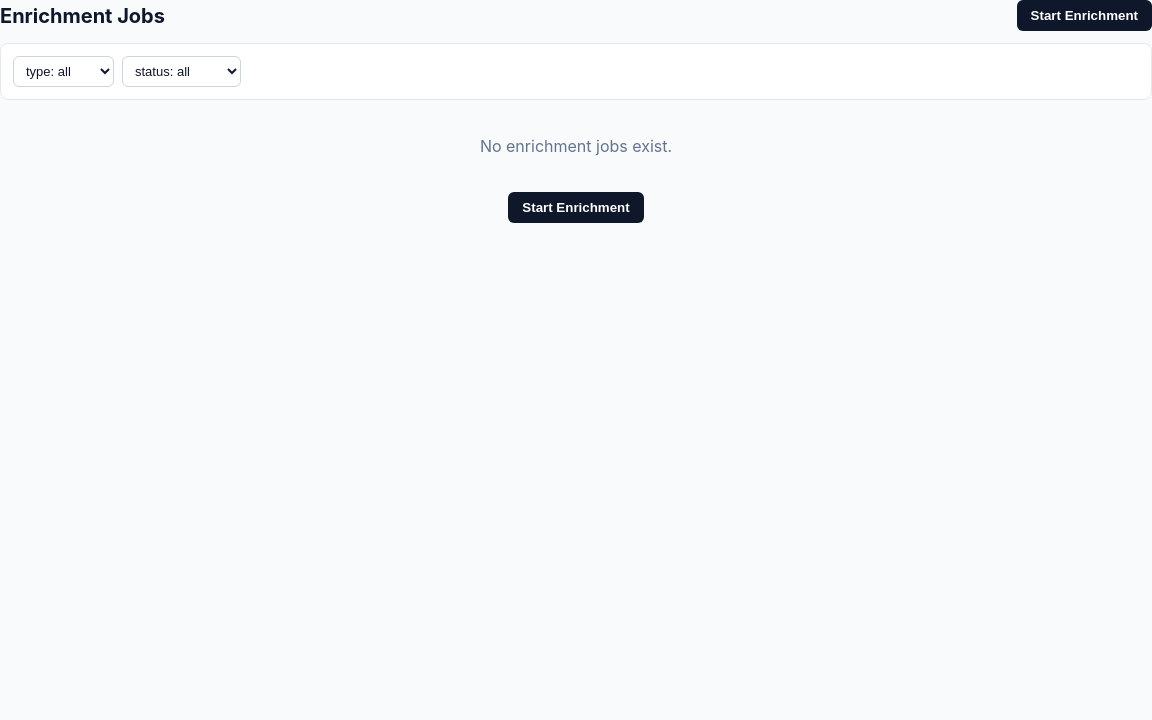
Test: Enrichment Start › limit 0 inválido
Step 1. Click the 1st button "Start Enrichment" → {"x": 1084, "y": 16}, box [1017,0,1151,31]
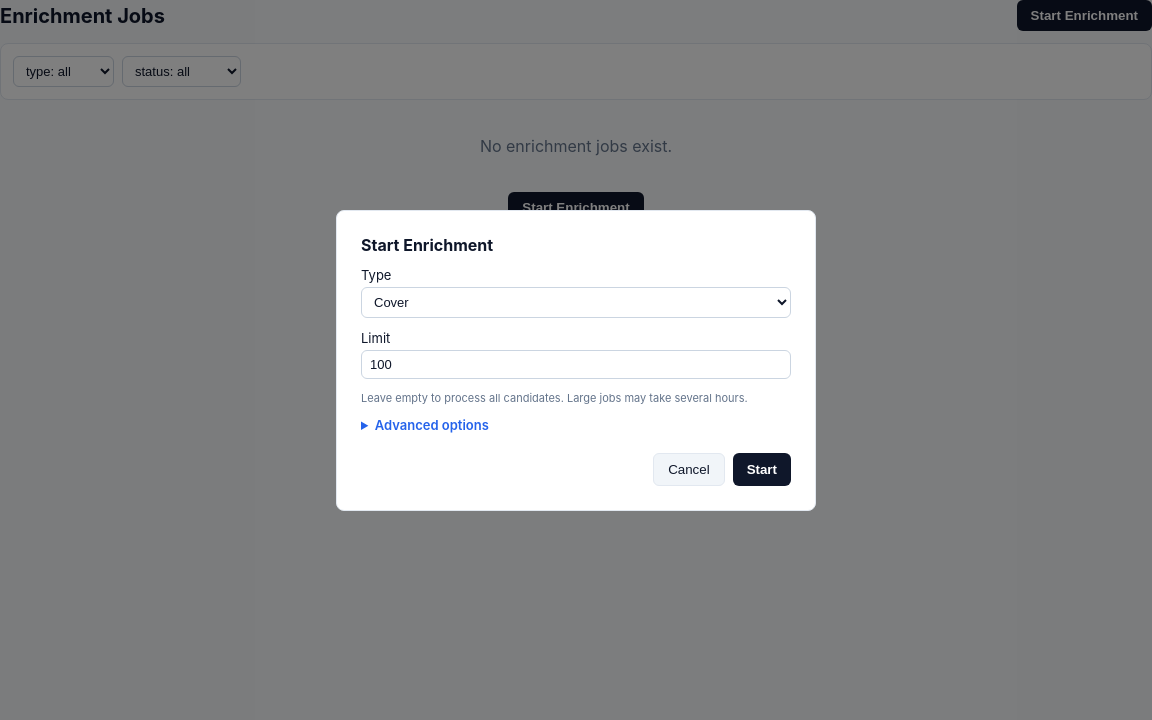
Step 2. Type "0" into the field labelled "Limit" → {"x": 576, "y": 364}, box [361,350,791,378]
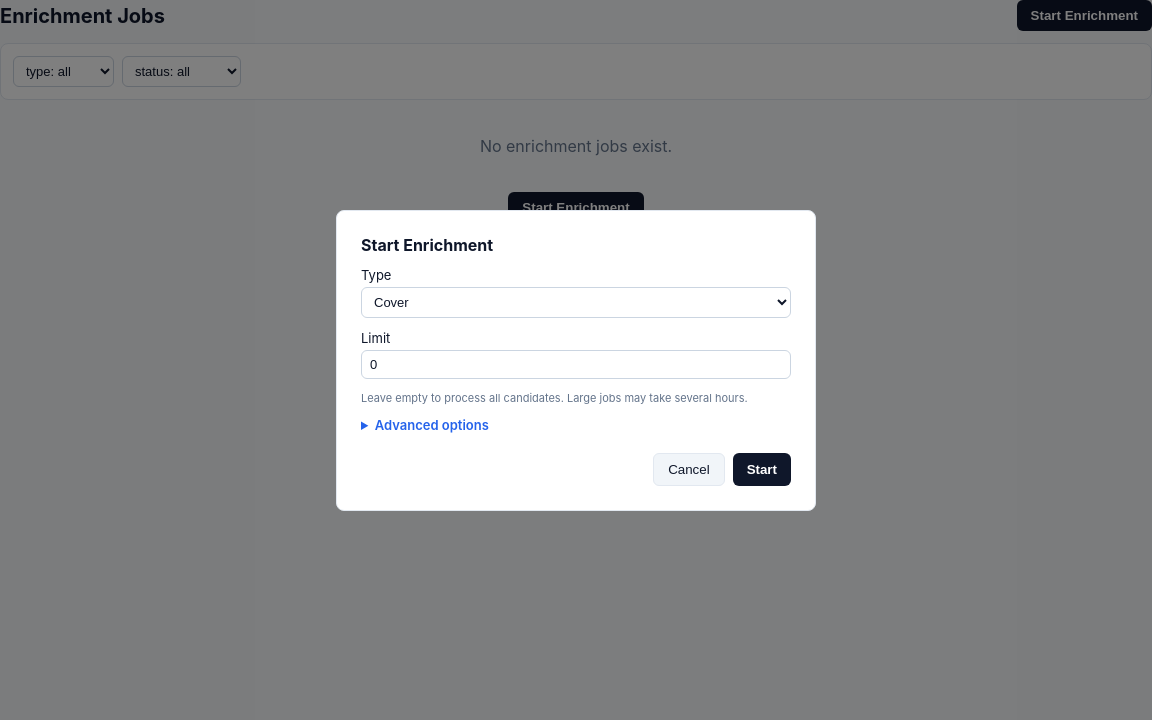
Step 3. Click the button "Start" → {"x": 762, "y": 469}, box [733,452,791,486]
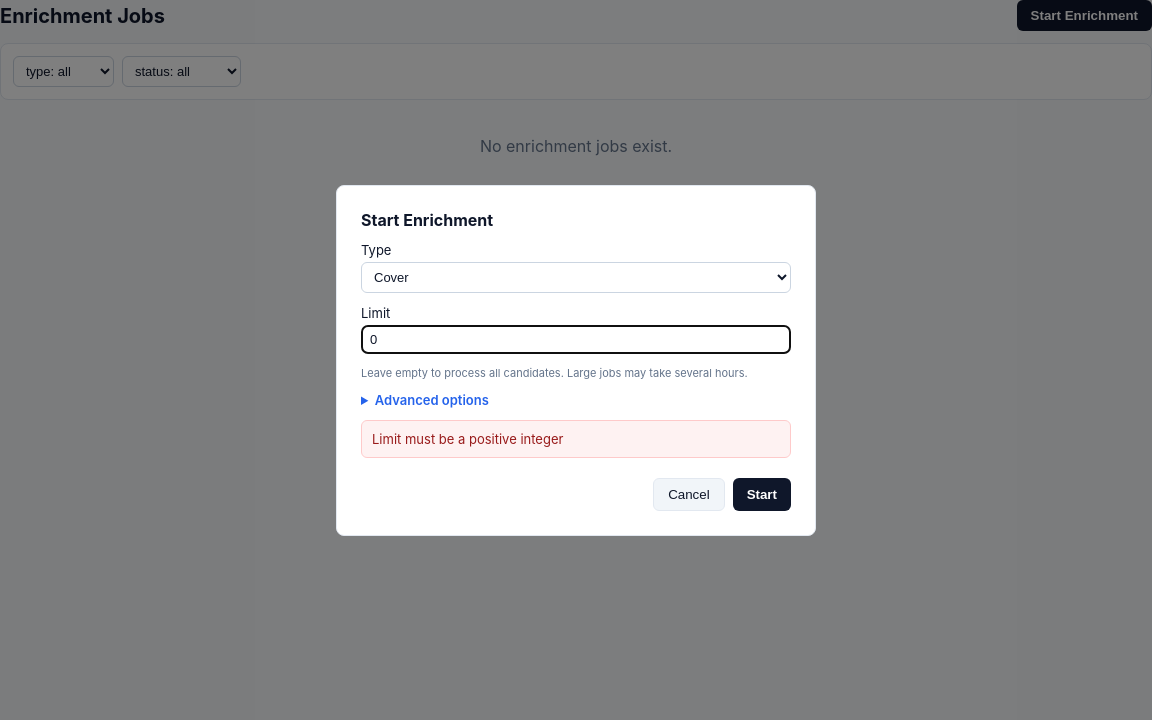
Expected: the text "Limit must be a positive integer" is shown, [361,420,791,458]
